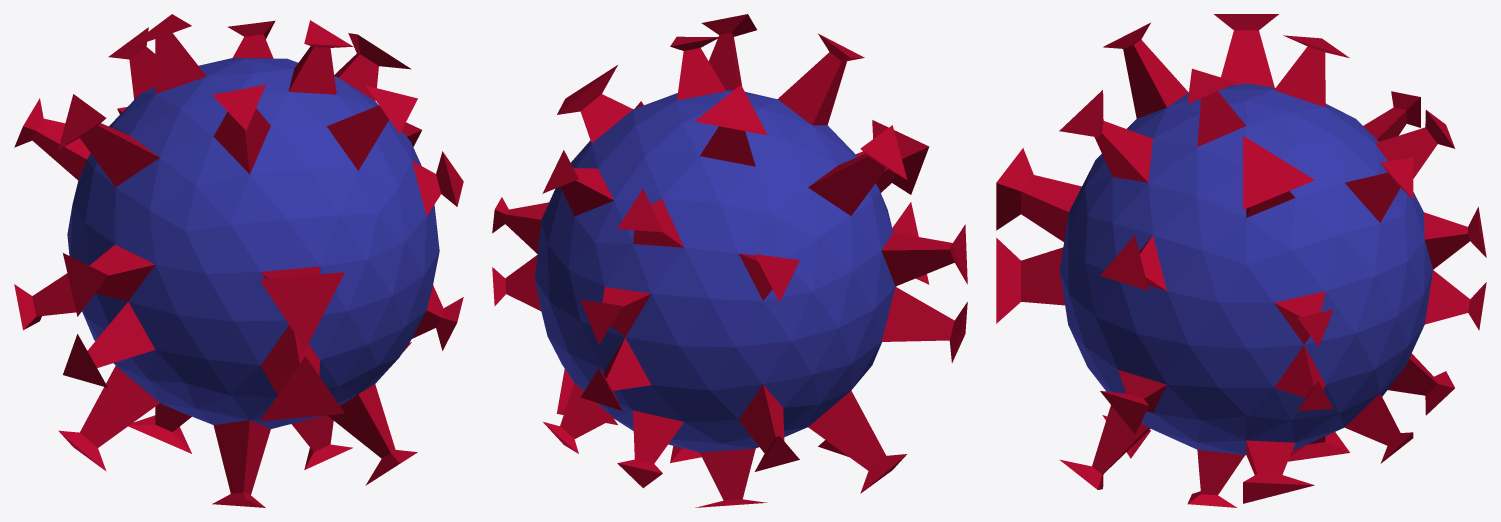
The model's file is Virus.fbx.
3 renders of one model, left to right at view 1: azimuth 30°, elevation 25°; view 2: azimuth 150°, elevation 25°; view 3: azimuth 270°, elevation 25°, orthographic. The views are drawn at different scales.
Visible parts, largest first — view 1: Icosphere; view 2: Icosphere; view 3: Icosphere.
Part boxes in pixels (bbox=[...]): Icosphere: bbox=[14, 14, 463, 507]; Icosphere: bbox=[492, 14, 967, 507]; Icosphere: bbox=[996, 14, 1486, 507].
Size of the model in its own units: 253 by 252 by 263.
